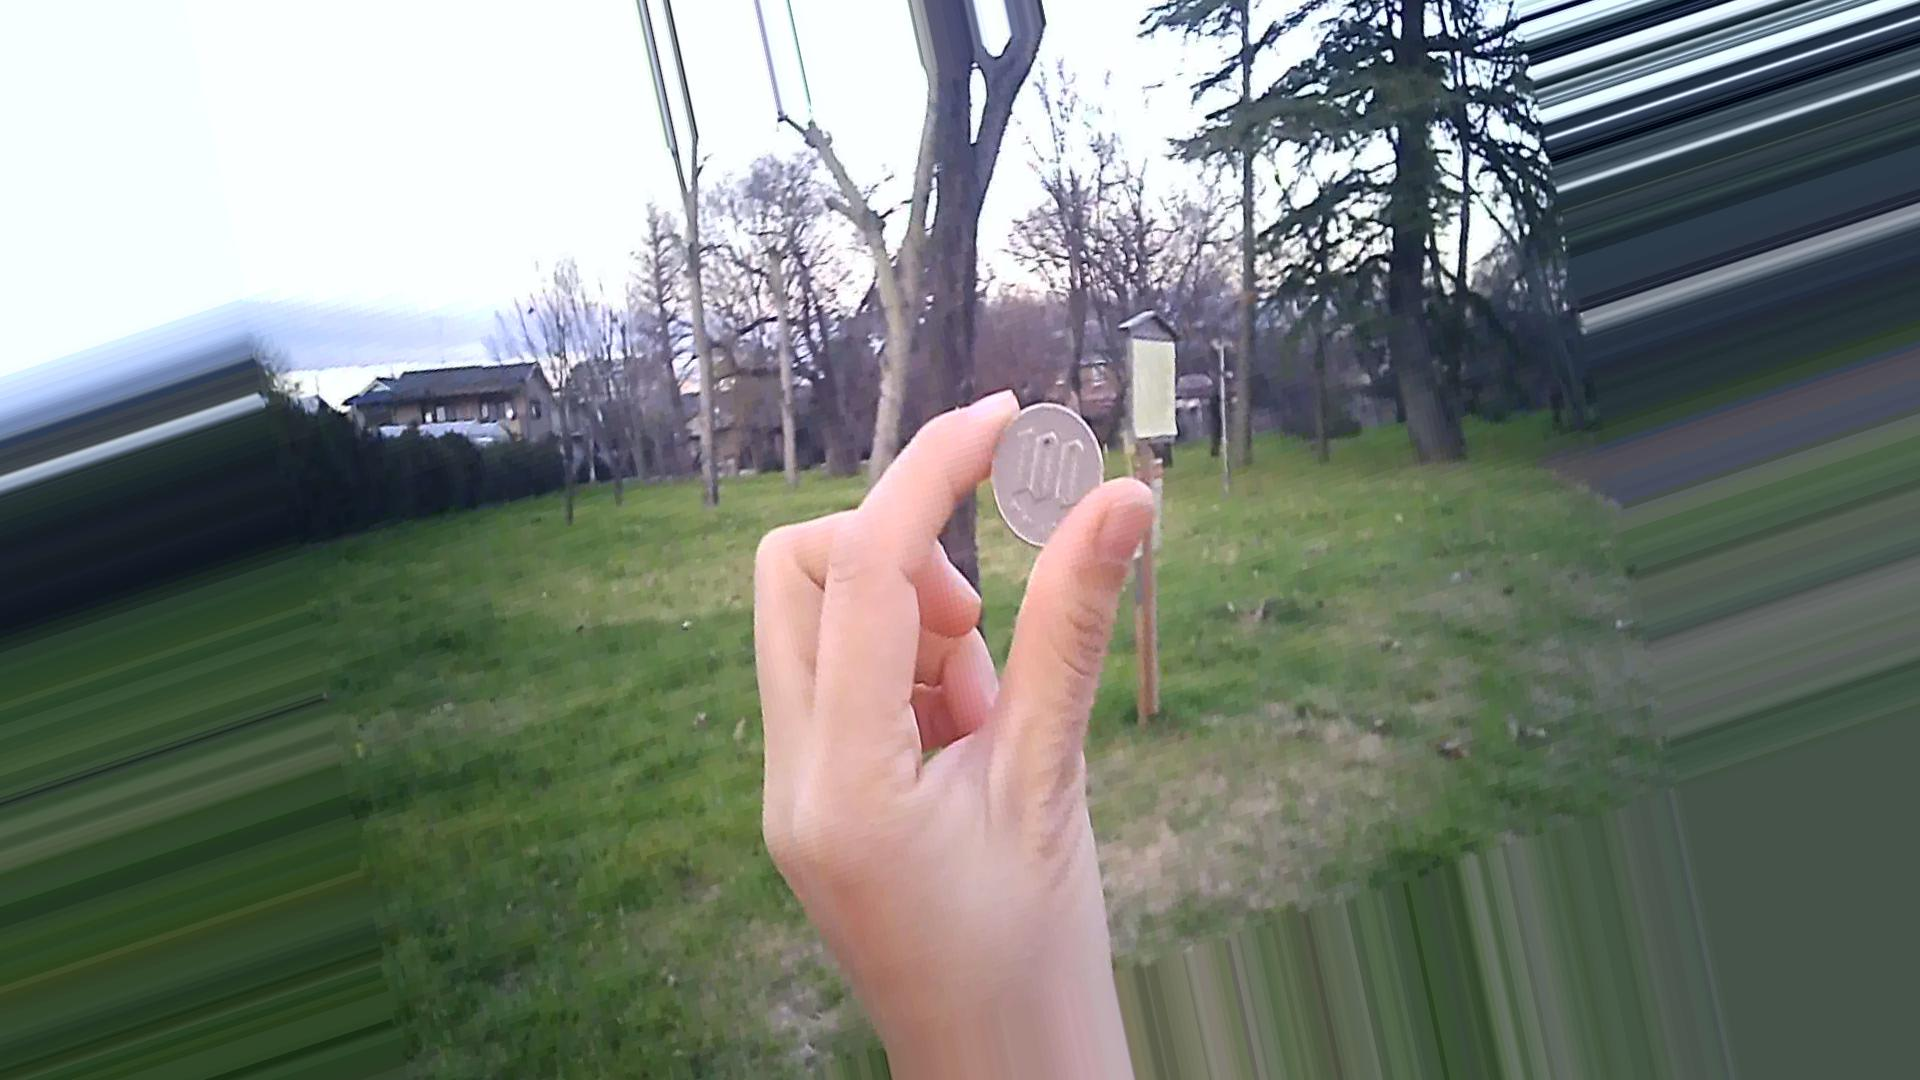100 Yen: (990, 397, 1109, 539)
